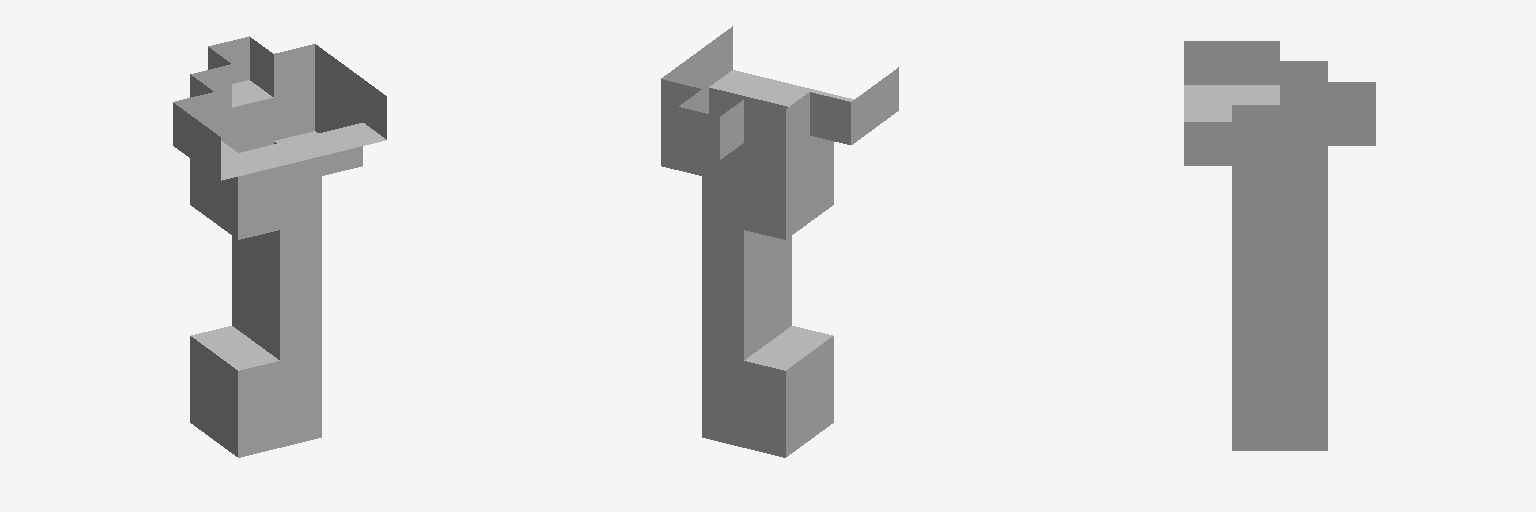
Rendered from front-right2.obj.
The picture shows the model from 3 angles: view 1: azimuth 30°, elevation 25°; view 2: azimuth 150°, elevation 25°; view 3: azimuth 270°, elevation 25°; orthographic projection.
Parts seen in each view (by area): view 1: front-right_x24_przewalski_horse.002; view 2: front-right_x24_przewalski_horse.002; view 3: front-right_x24_przewalski_horse.002.
Boxes of the visible parts, x1,y1,x2,y2 form: front-right_x24_przewalski_horse.002: [173, 36, 386, 457]; front-right_x24_przewalski_horse.002: [661, 26, 898, 457]; front-right_x24_przewalski_horse.002: [1184, 41, 1375, 450].
Bounding box in the file's own units: 4 × 8 × 4.